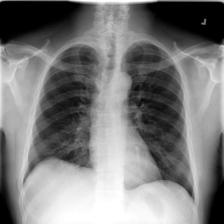normal: (14, 39, 198, 206)
